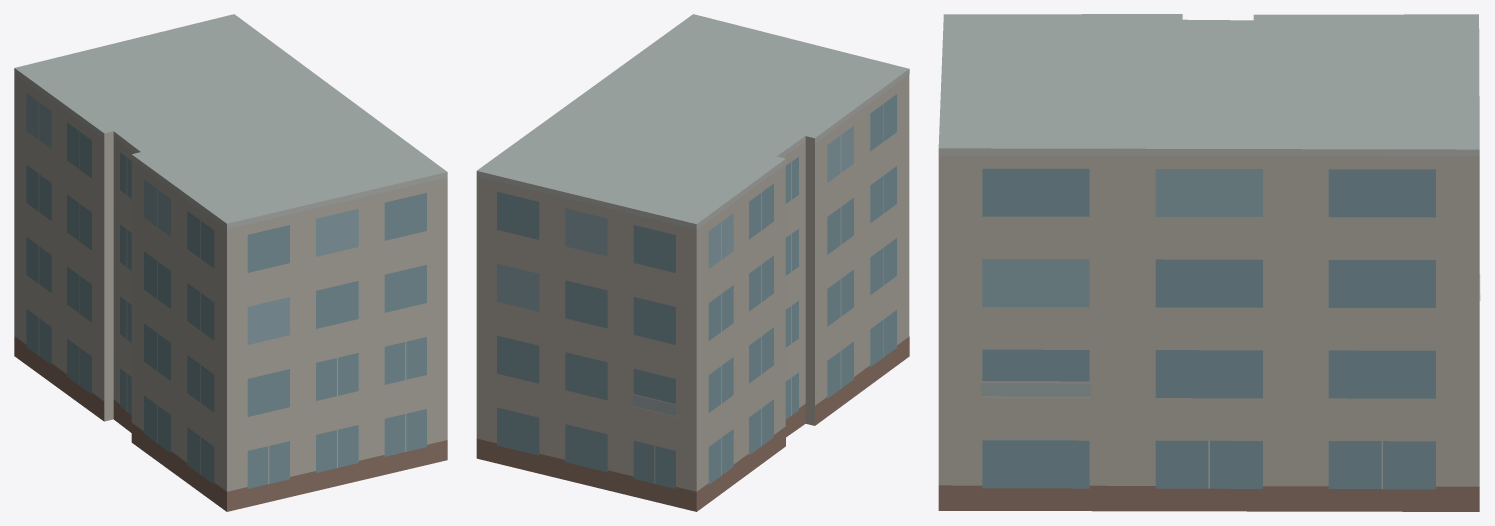
The model's file is survey-upis-32745545.glb.
3 renders of one model, left to right at view 1: azimuth 30°, elevation 25°; view 2: azimuth 150°, elevation 25°; view 3: azimuth 270°, elevation 25°, orthographic. The views are drawn at different scales.
Parts seen in each view (by area): view 1: survey-upis-32745545.tmp; view 2: survey-upis-32745545.tmp; view 3: survey-upis-32745545.tmp.
Part boxes in pixels (bbox=[...]): survey-upis-32745545.tmp: bbox=[14, 14, 447, 511]; survey-upis-32745545.tmp: bbox=[476, 14, 909, 511]; survey-upis-32745545.tmp: bbox=[938, 14, 1480, 511].
Bounding box in the file's own units: 10.35 × 12.9 × 17.49.
